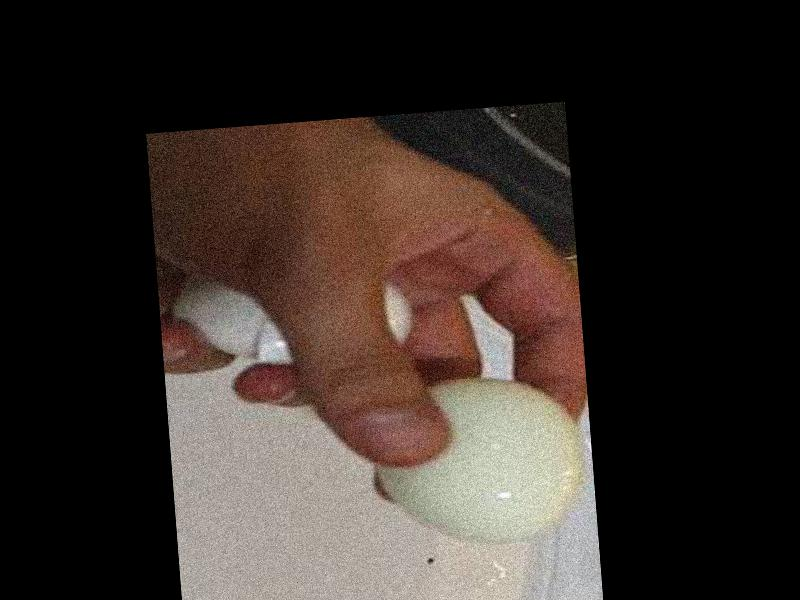Eggs: (367, 369, 594, 547)
